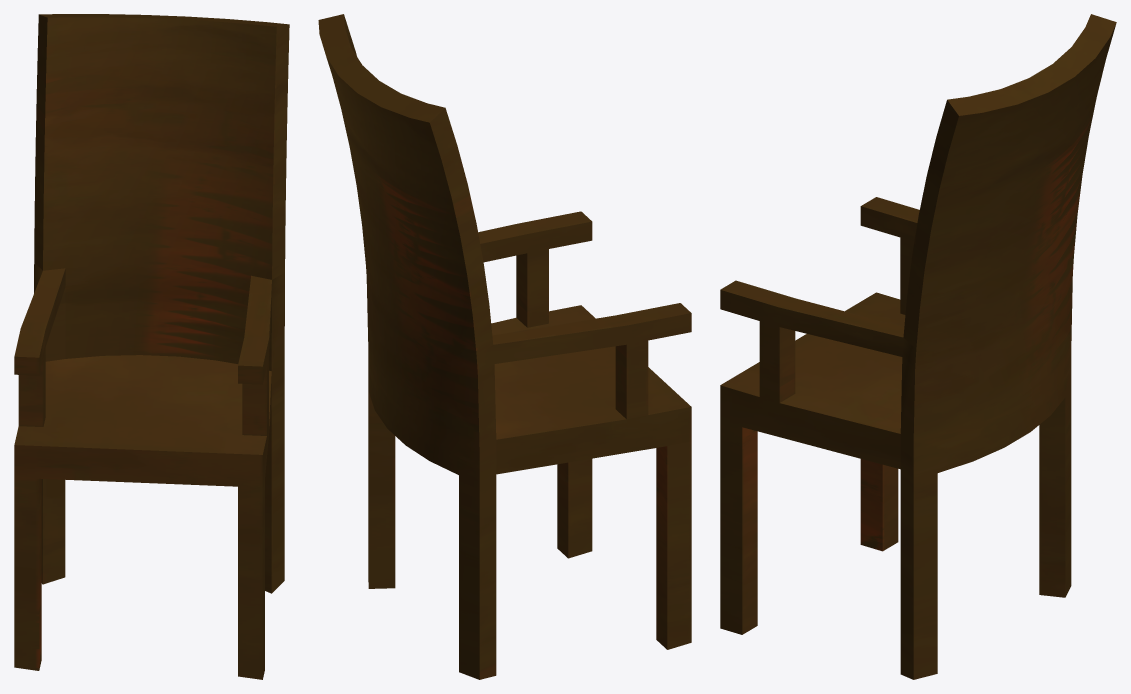
The model's file is House_Chair_v01.fbx.
The picture shows the model from 3 angles, left to right: view 1: azimuth 30°, elevation 25°; view 2: azimuth 150°, elevation 25°; view 3: azimuth 270°, elevation 25°; orthographic projection. The views are drawn at different scales.
Parts seen in each view (by area): view 1: Chair; view 2: Chair; view 3: Chair.
Boxes of the visible parts, bbox=[...] form: Chair: bbox=[14, 14, 289, 679]; Chair: bbox=[318, 14, 691, 679]; Chair: bbox=[720, 14, 1116, 679].
Size of the model in its own units: 74.59 by 75.62 by 124.
1 material, 1 textured.
